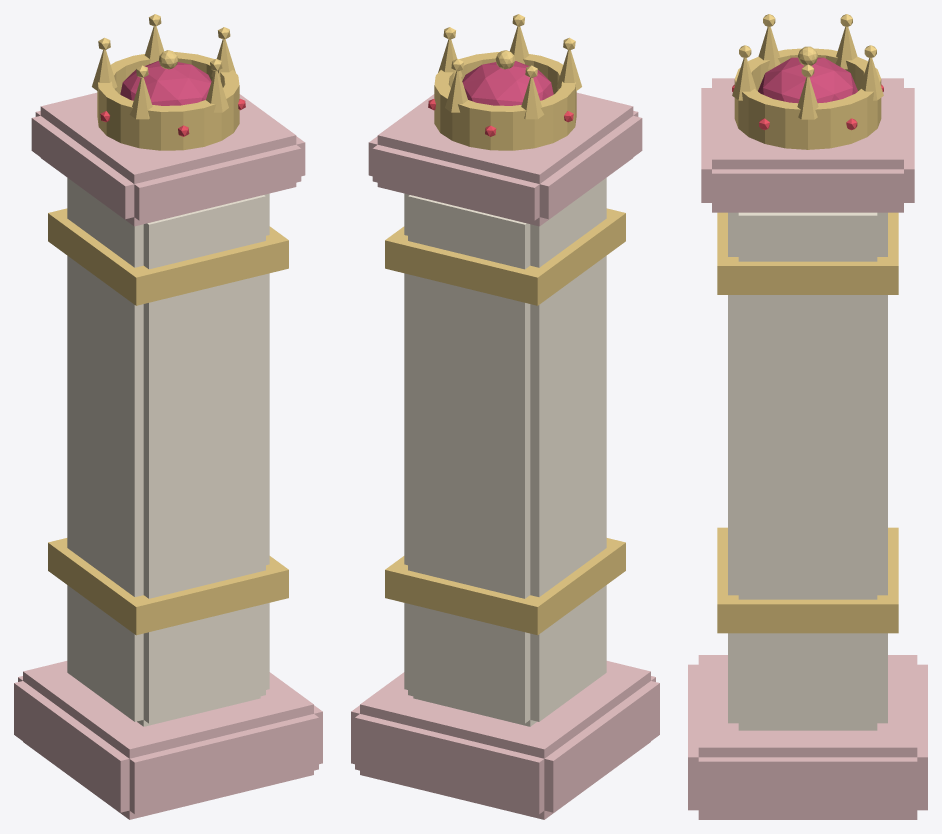
File: HOB_CrownStonePillar.fbx
3 renders of one model, left to right at view 1: azimuth 30°, elevation 25°; view 2: azimuth 150°, elevation 25°; view 3: azimuth 270°, elevation 25°, orthographic. The views are drawn at different scales.
Parts seen in each view (by area): view 1: HOB_CrownStonePillar; view 2: HOB_CrownStonePillar; view 3: HOB_CrownStonePillar.
Part boxes in pixels (bbox=[...]): HOB_CrownStonePillar: bbox=[14, 14, 322, 819]; HOB_CrownStonePillar: bbox=[351, 14, 659, 819]; HOB_CrownStonePillar: bbox=[688, 14, 927, 819].
Size of the model in its own units: 90 by 305 by 90.
